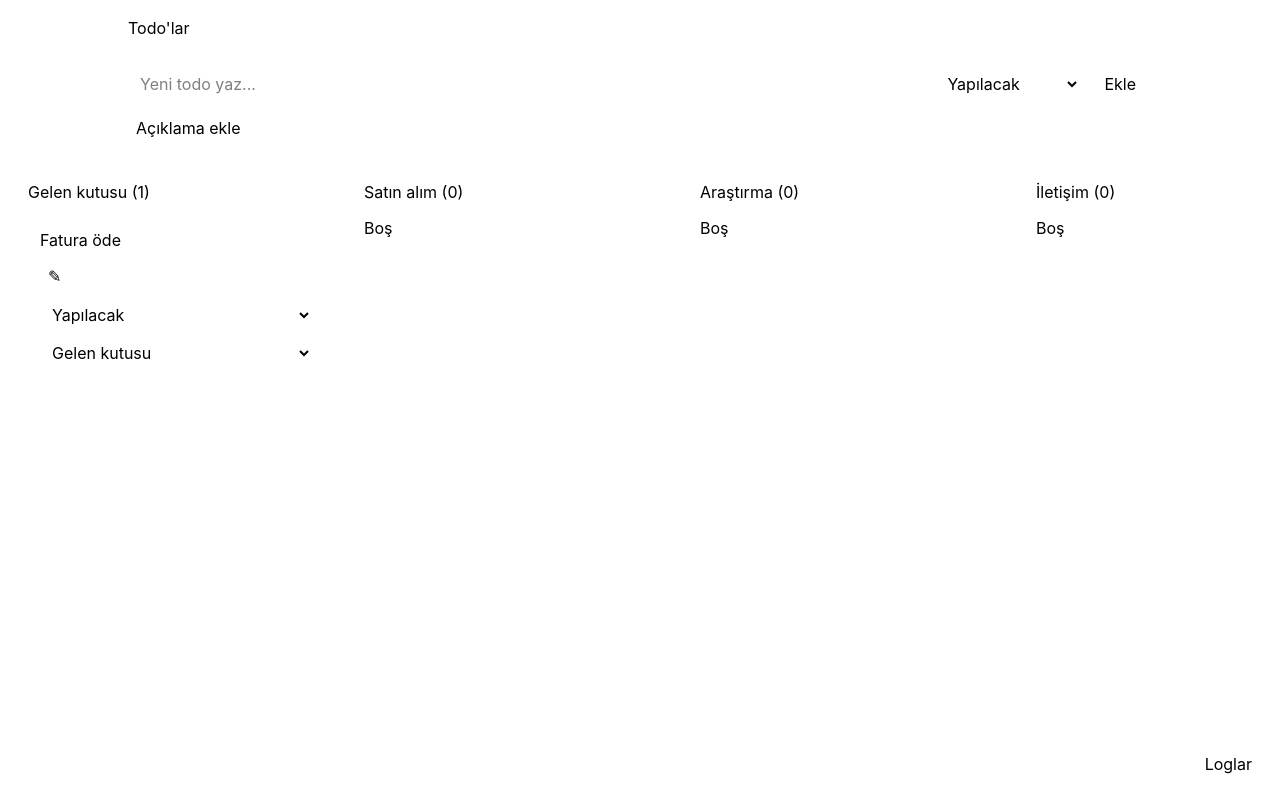
card status › clears the status error once the next change succeeds
Select "Tamamlandı" in the dropdown named "Fatura öde için durum" at (176, 315), box [40,300,312,330]
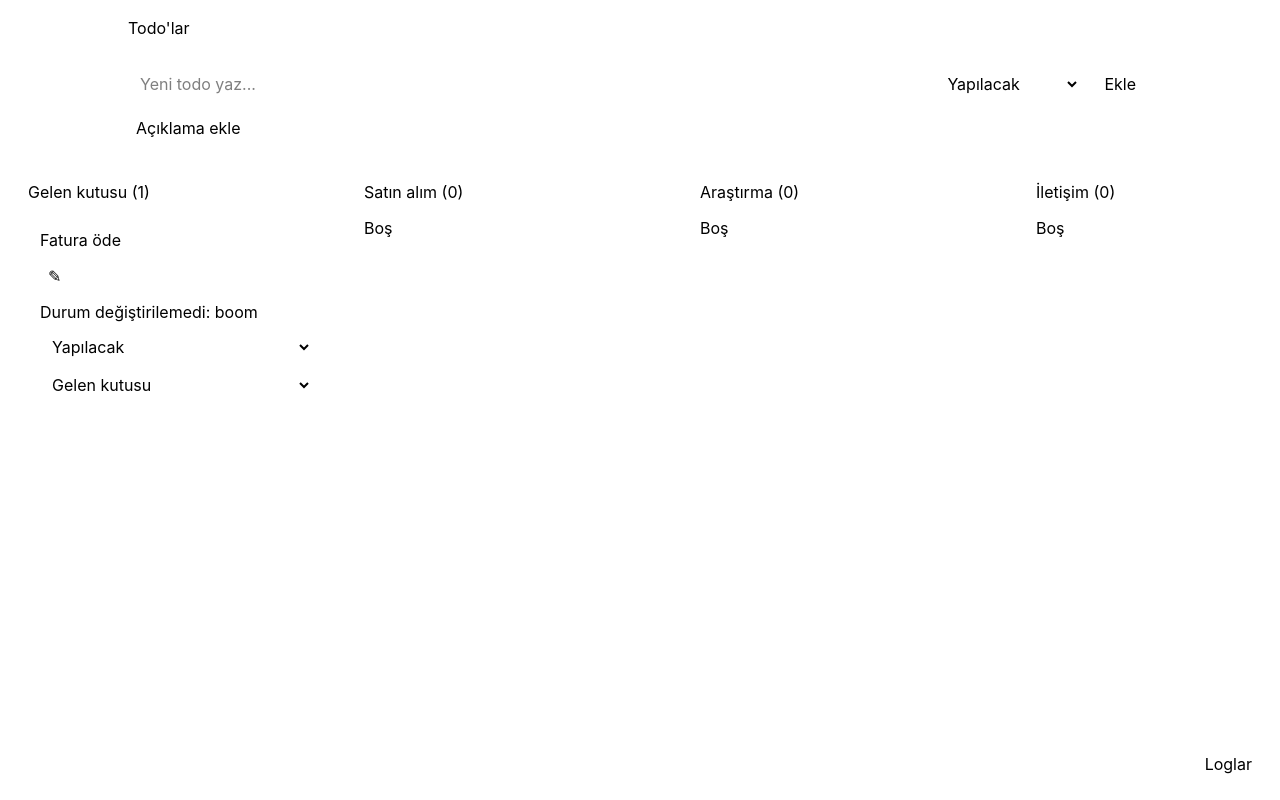
Check: the message reads "Durum değiştirilemedi: boom", box [40,302,258,322]
Select "Tamamlandı" in the dropdown named "Fatura öde için durum" at (176, 347), box [40,332,312,362]
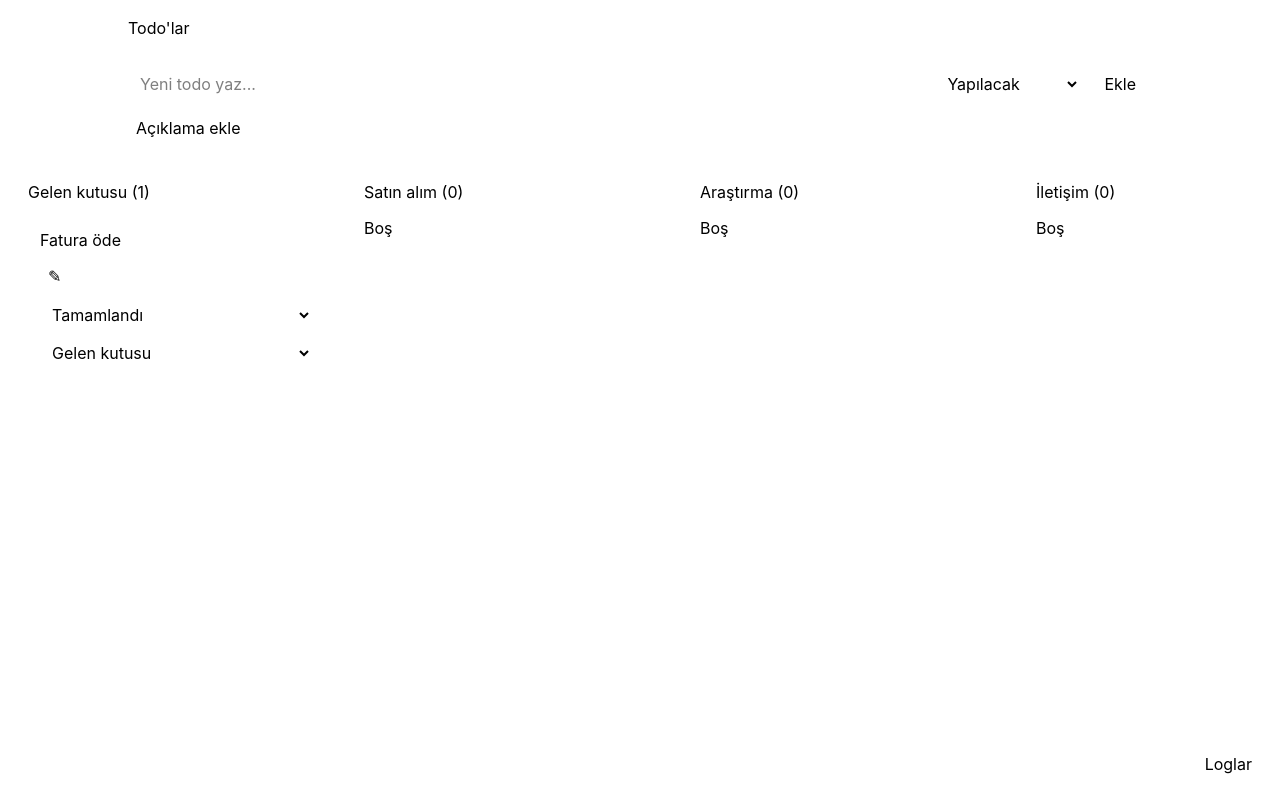
Check: the message "Durum değiştirilemedi: boom" is gone
